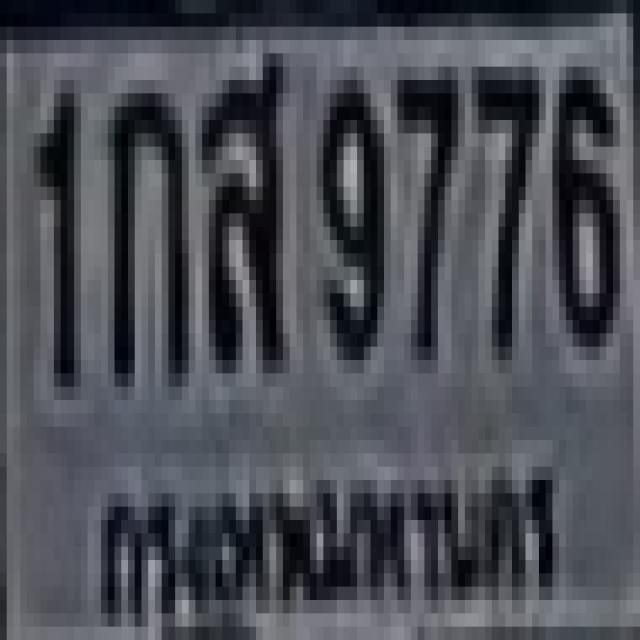-: (198, 53, 280, 360), (101, 80, 182, 373)
1: (34, 80, 74, 373)
6: (552, 60, 613, 340)
7: (394, 66, 455, 346), (472, 66, 532, 346)
9: (317, 66, 377, 346)
BKK: (76, 433, 565, 640)
